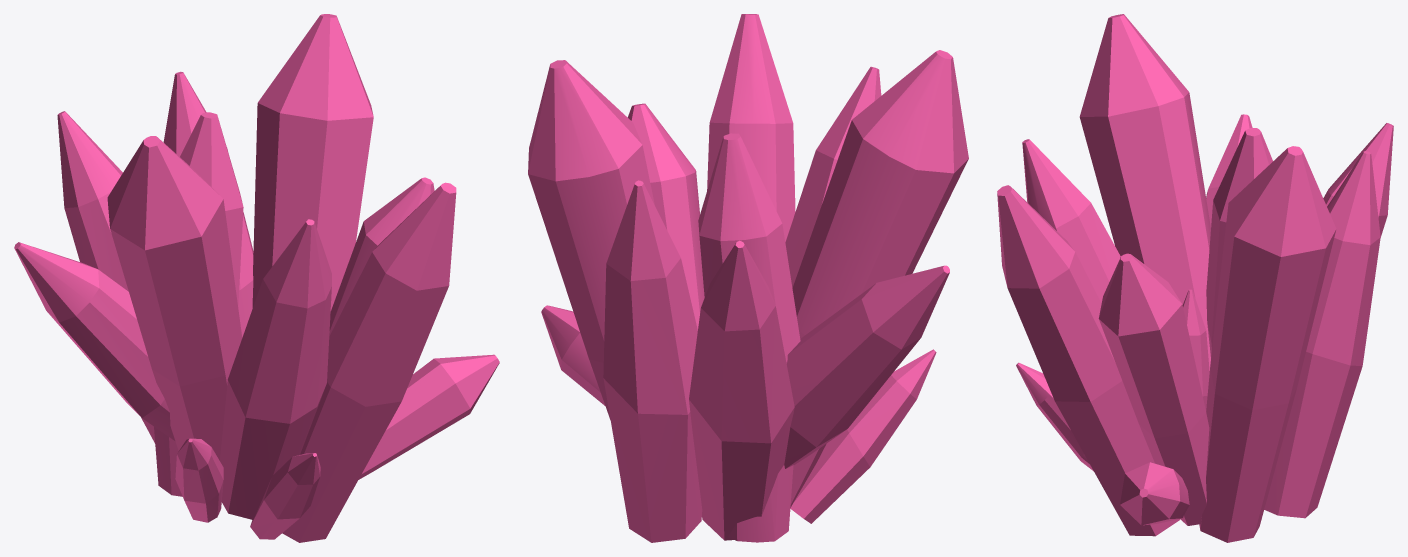
File: Crystal_Bunch_Pink.fbx
The picture shows the model from 3 angles, left to right: view 1: azimuth 30°, elevation 25°; view 2: azimuth 150°, elevation 25°; view 3: azimuth 270°, elevation 25°; orthographic projection. The views are drawn at different scales.
Visible parts, largest first — view 1: Model; view 2: Model; view 3: Model.
Boxes of the visible parts, <box> form: Model: <box>14,14,499,542</box>; Model: <box>528,14,968,542</box>; Model: <box>997,14,1393,542</box>.
Bounding box in the file's own units: 337 × 335 × 276.
